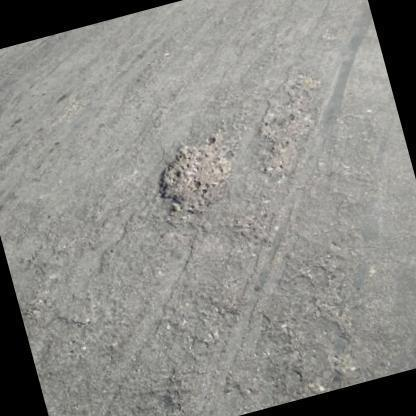pothole: (158, 131, 232, 217), (261, 106, 314, 182)
